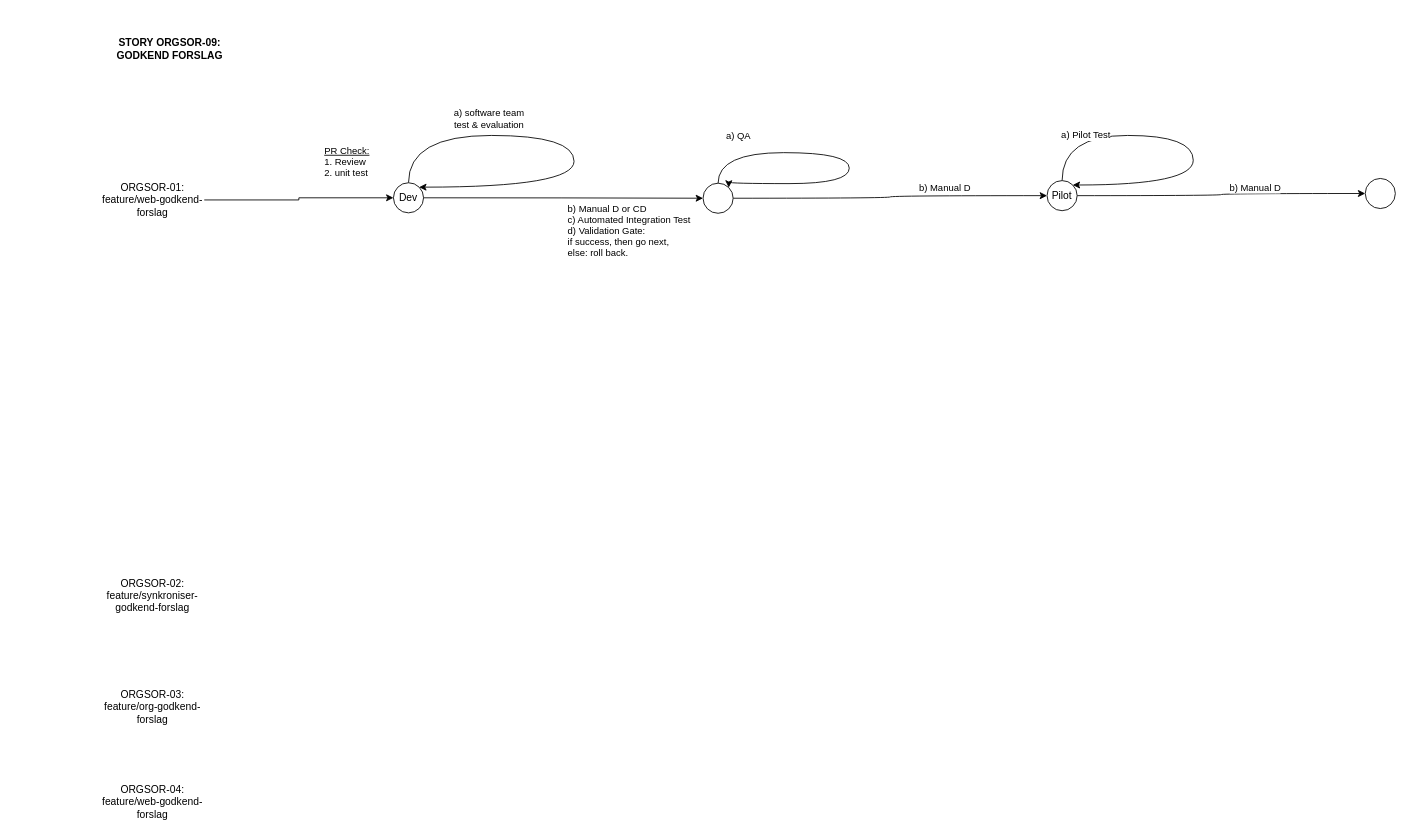
Some shapes in this 1410 by 835 pixel diagram are drawn without their labels. The centre of each missing label's shape, as x and y in pixels:
"Prod" goes at [1379,193].
"Test" goes at [717,197].
